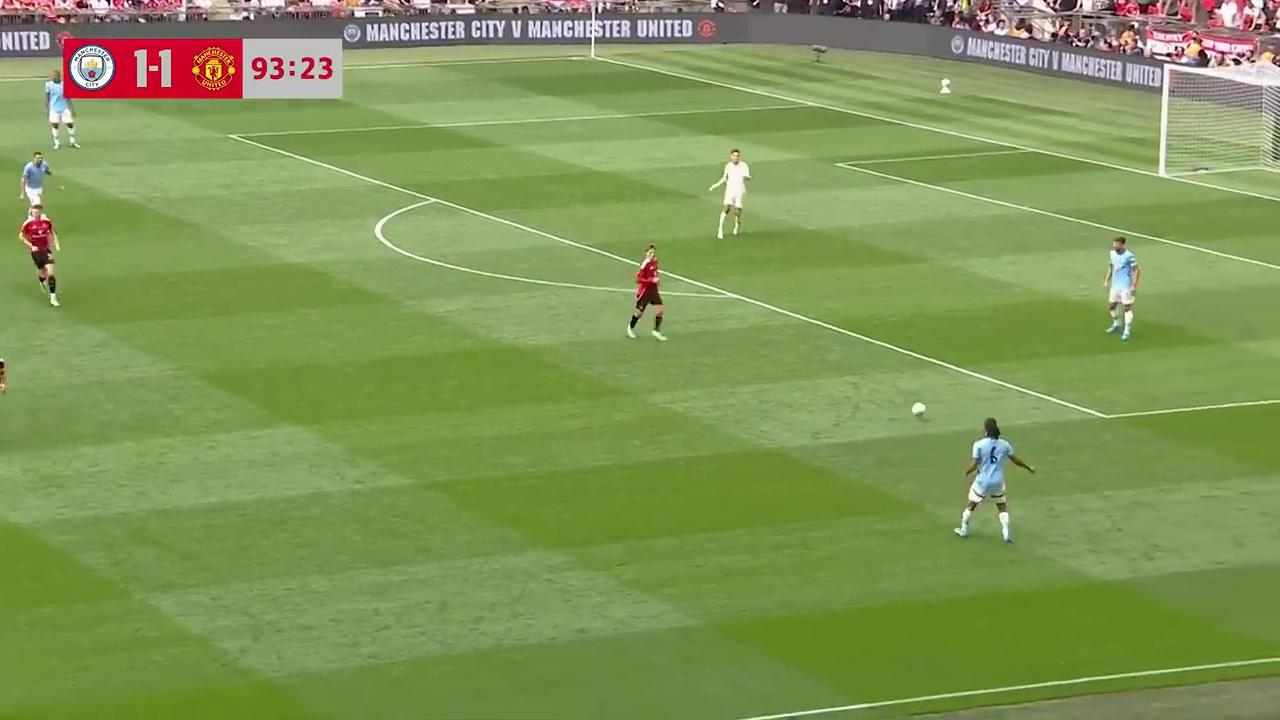ball: (910, 399, 927, 417)
player: (953, 417, 1035, 543), (18, 206, 60, 305), (627, 243, 666, 340), (1103, 236, 1139, 340), (711, 148, 751, 239), (43, 70, 79, 150), (17, 150, 55, 211), (0, 317, 9, 398)
